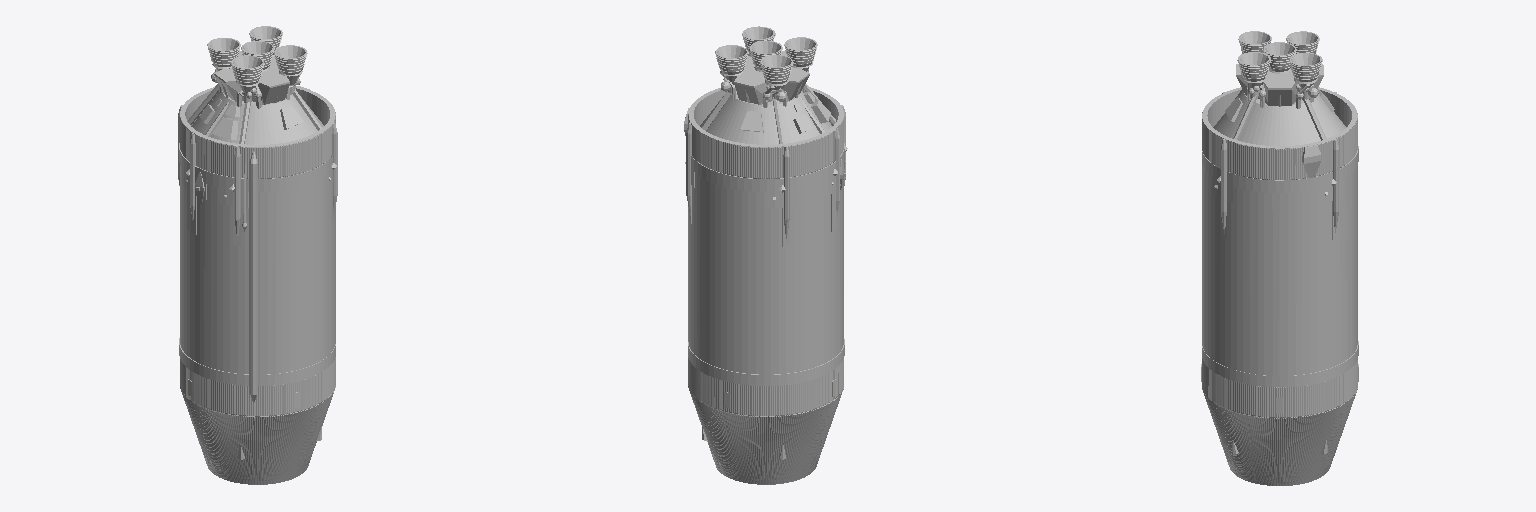
Rendered from sat.obj.
3 renders of one model, left to right at view 1: azimuth 30°, elevation 25°; view 2: azimuth 150°, elevation 25°; view 3: azimuth 270°, elevation 25°, orthographic.
Parts seen in each view (by area): view 1: sat (9); view 2: sat (9); view 3: sat (9).
Part boxes in pixels (left/top/right/bottom): sat (9): left=178, top=26, right=337, bottom=484; sat (9): left=684, top=26, right=847, bottom=484; sat (9): left=1201, top=31, right=1358, bottom=485.
Size of the model in its own units: 93.18 by 265 by 90.82.